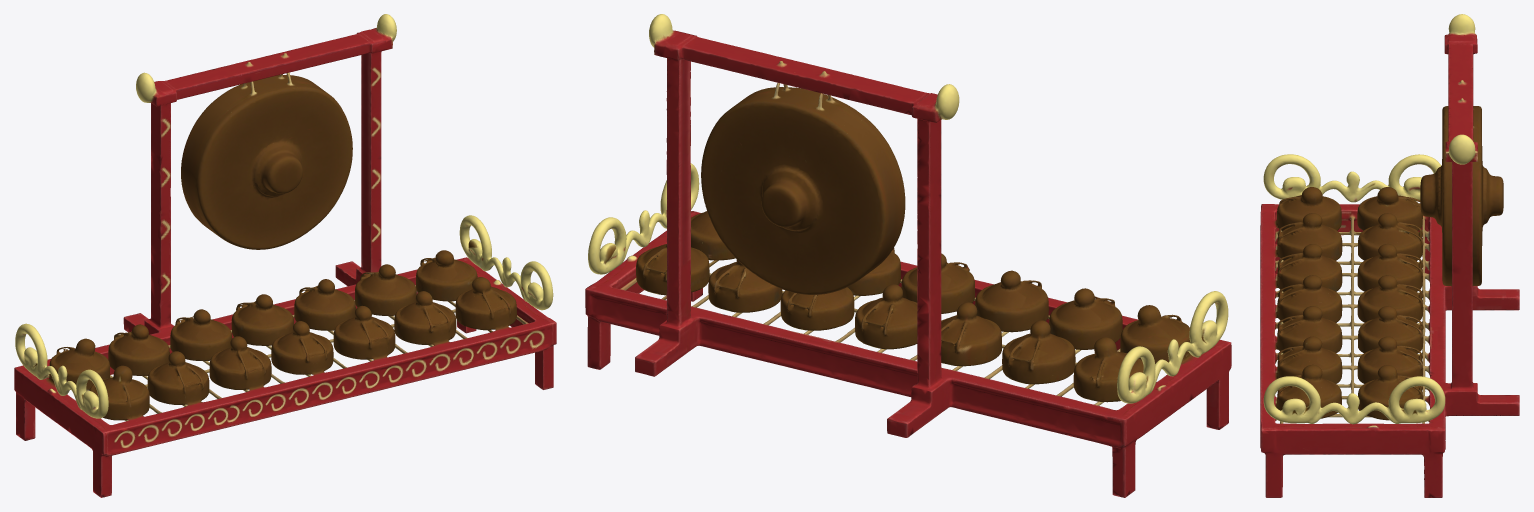
File: gamelan.glb
3 renders of one model, left to right at view 1: azimuth 30°, elevation 25°; view 2: azimuth 150°, elevation 25°; view 3: azimuth 270°, elevation 25°, orthographic. The views are drawn at different scales.
Size of the model in its own units: 1.65 by 1.11 by 0.7969.
1 material, 1 textured.
